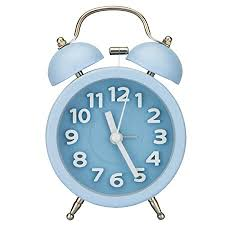alarm_clock: (43, 4, 186, 218)
